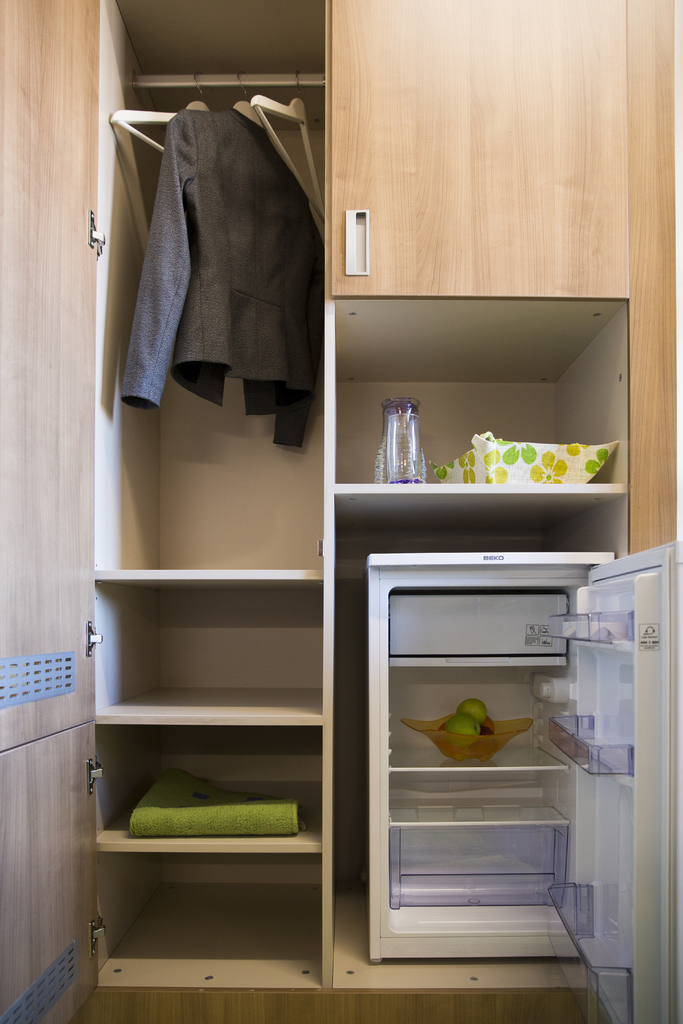cabinet door: (329, 13, 626, 304), (2, 21, 93, 727), (5, 742, 93, 1010)
handle: (343, 202, 375, 277)
refrigerator door: (579, 589, 674, 988)
